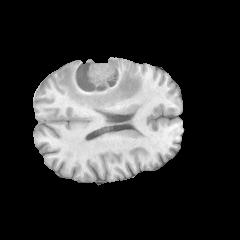glioma: (56, 58, 142, 111)
